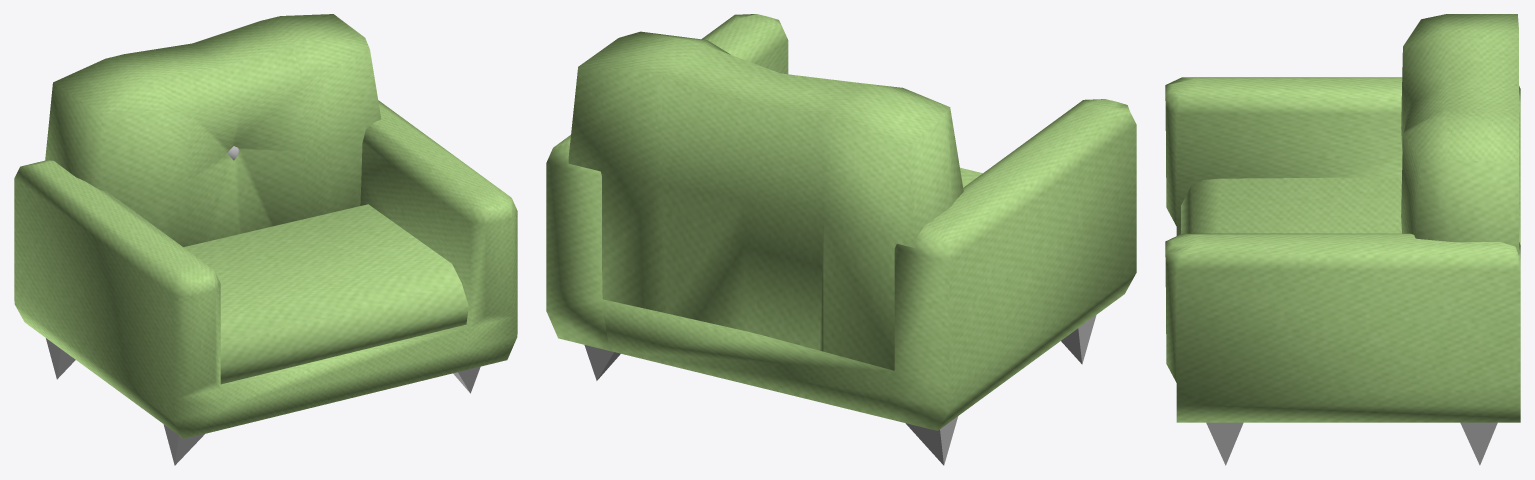
Rendered from Chair_G_3.FBX.
3 renders of one model, left to right at view 1: azimuth 30°, elevation 25°; view 2: azimuth 150°, elevation 25°; view 3: azimuth 270°, elevation 25°, orthographic. The views are drawn at different scales.
Visible parts, largest first — view 1: Chair; view 2: Chair; view 3: Chair.
Boxes of the visible parts, x1,y1,x2,y2 form: Chair: [14, 14, 517, 465]; Chair: [546, 14, 1136, 465]; Chair: [1165, 14, 1520, 465].
Size of the model in its own units: 204 by 167 by 169.
